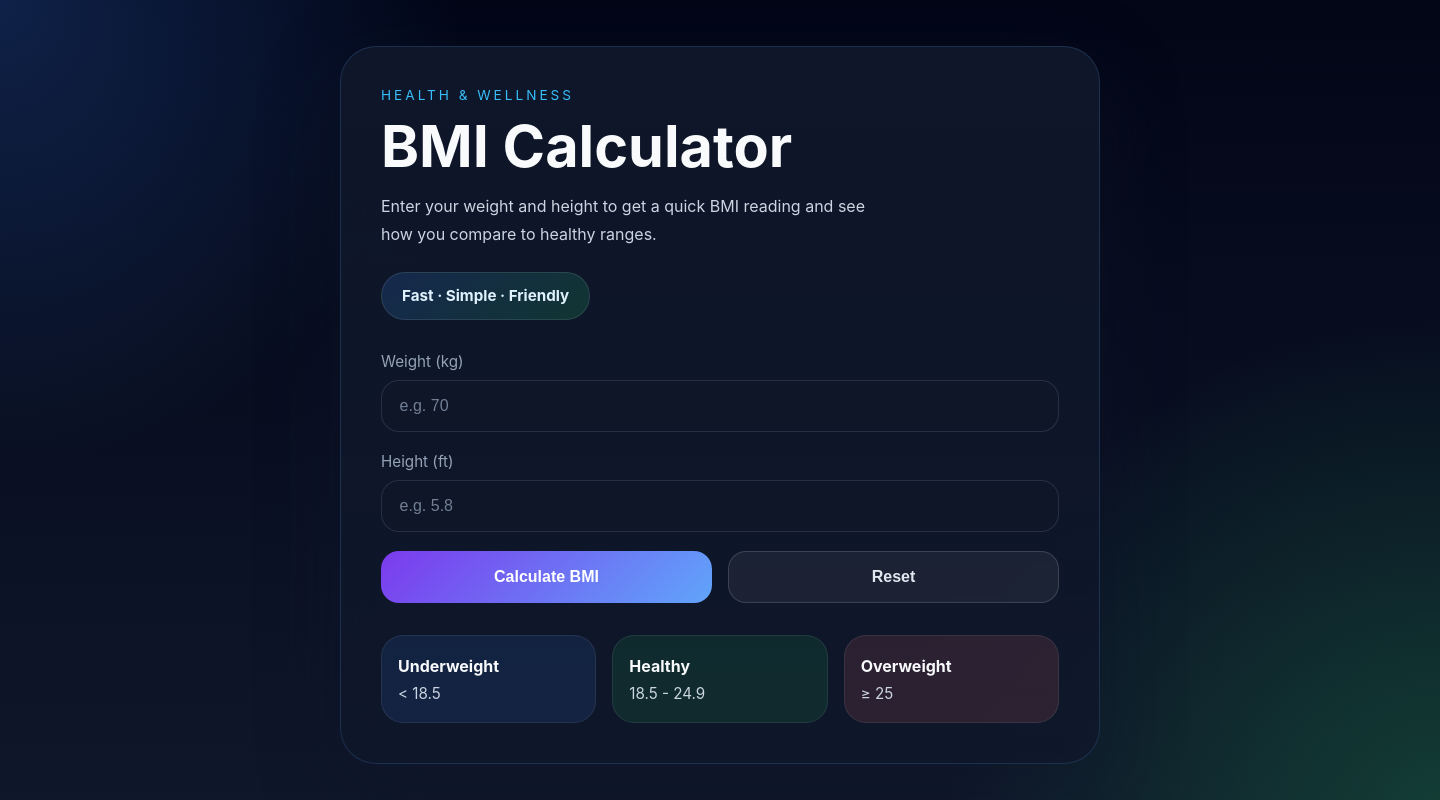
Test: shows a healthy result for a normal BMI
Step 1. Type "70" into the number field labelled "Weight (kg)" → {"x": 720, "y": 406}, box [381,380,1059,432]
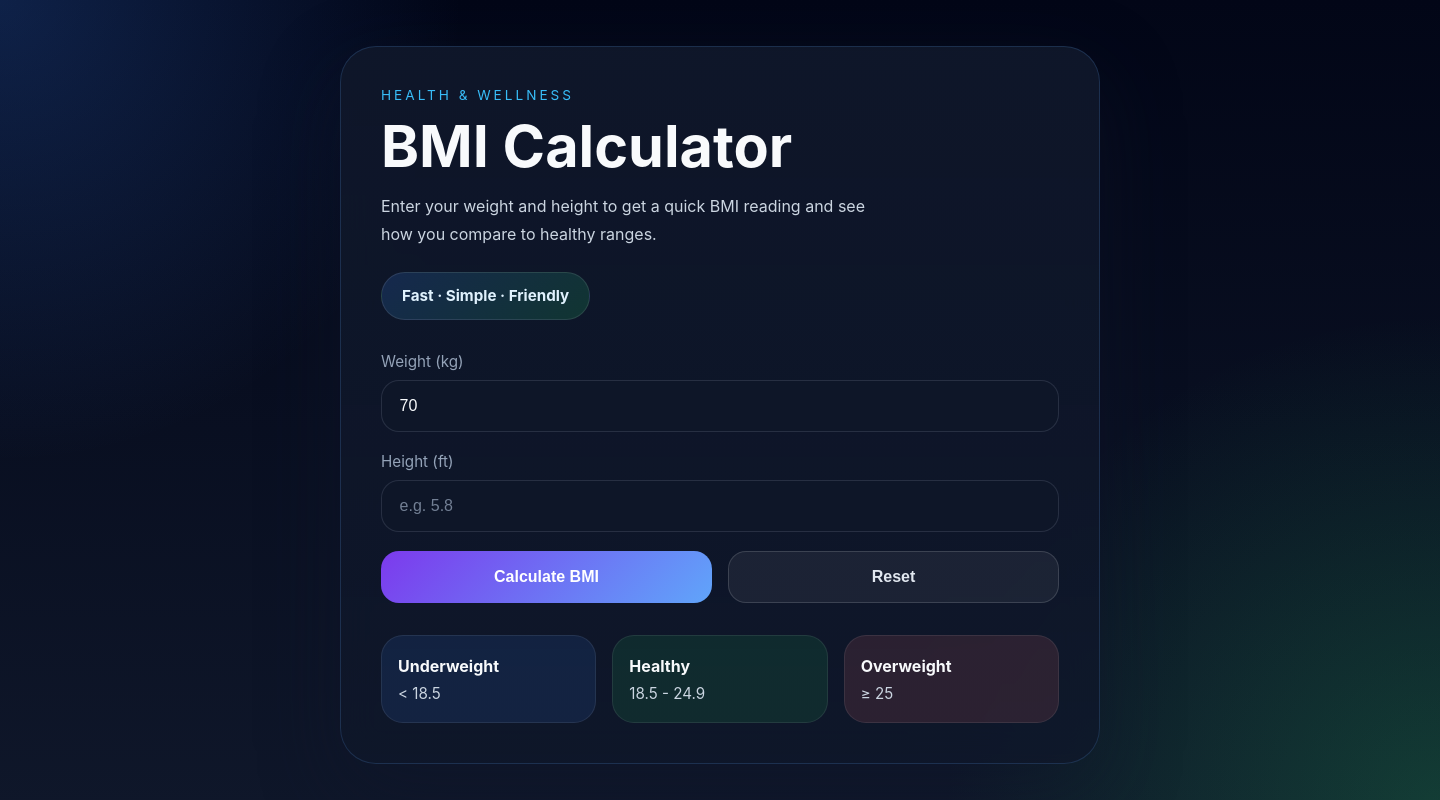
Step 2. Type "5.8" into the number field labelled "Height (ft)" → {"x": 720, "y": 506}, box [381,480,1059,532]
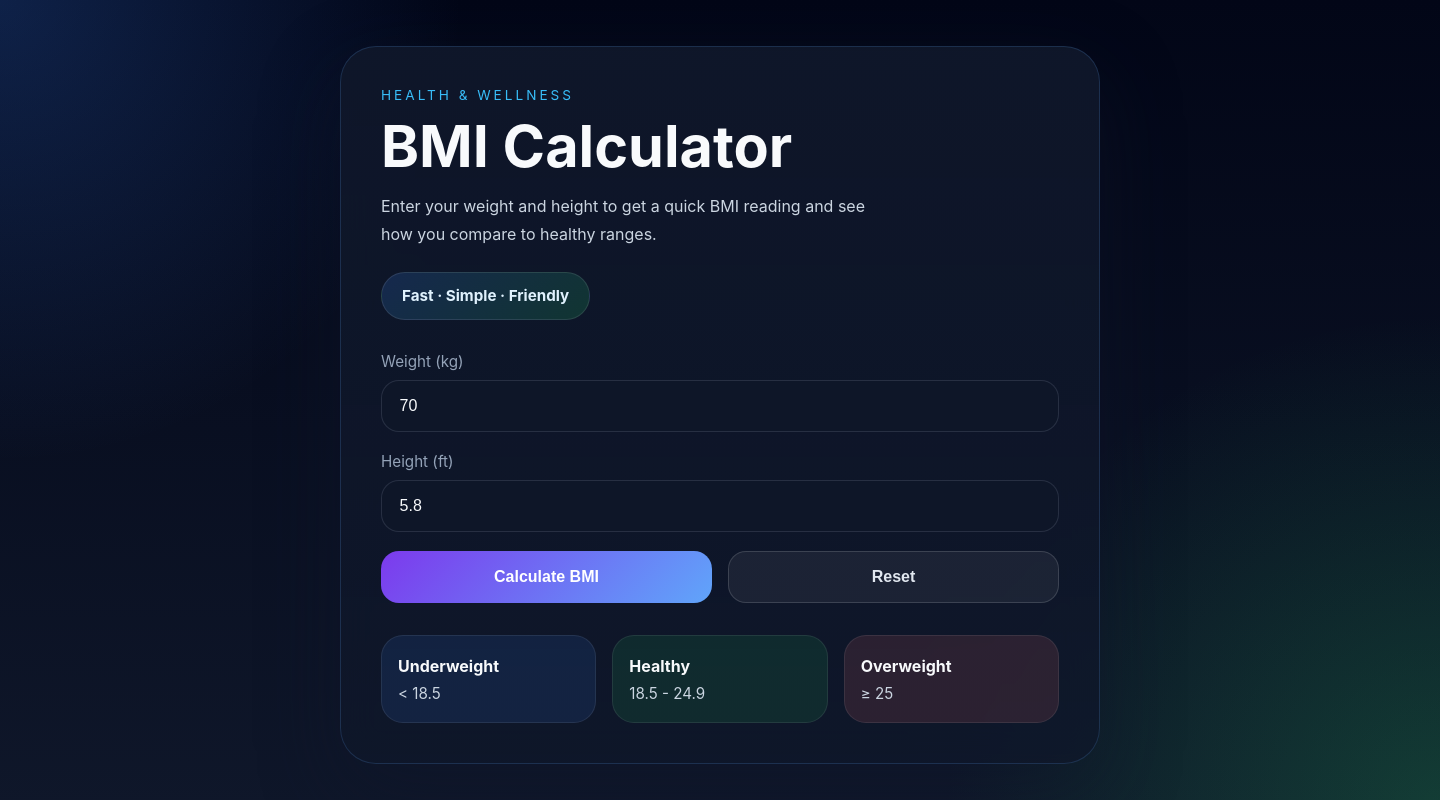
Step 3. Click the button "Calculate BMI" → {"x": 546, "y": 577}, box [381,551,712,603]
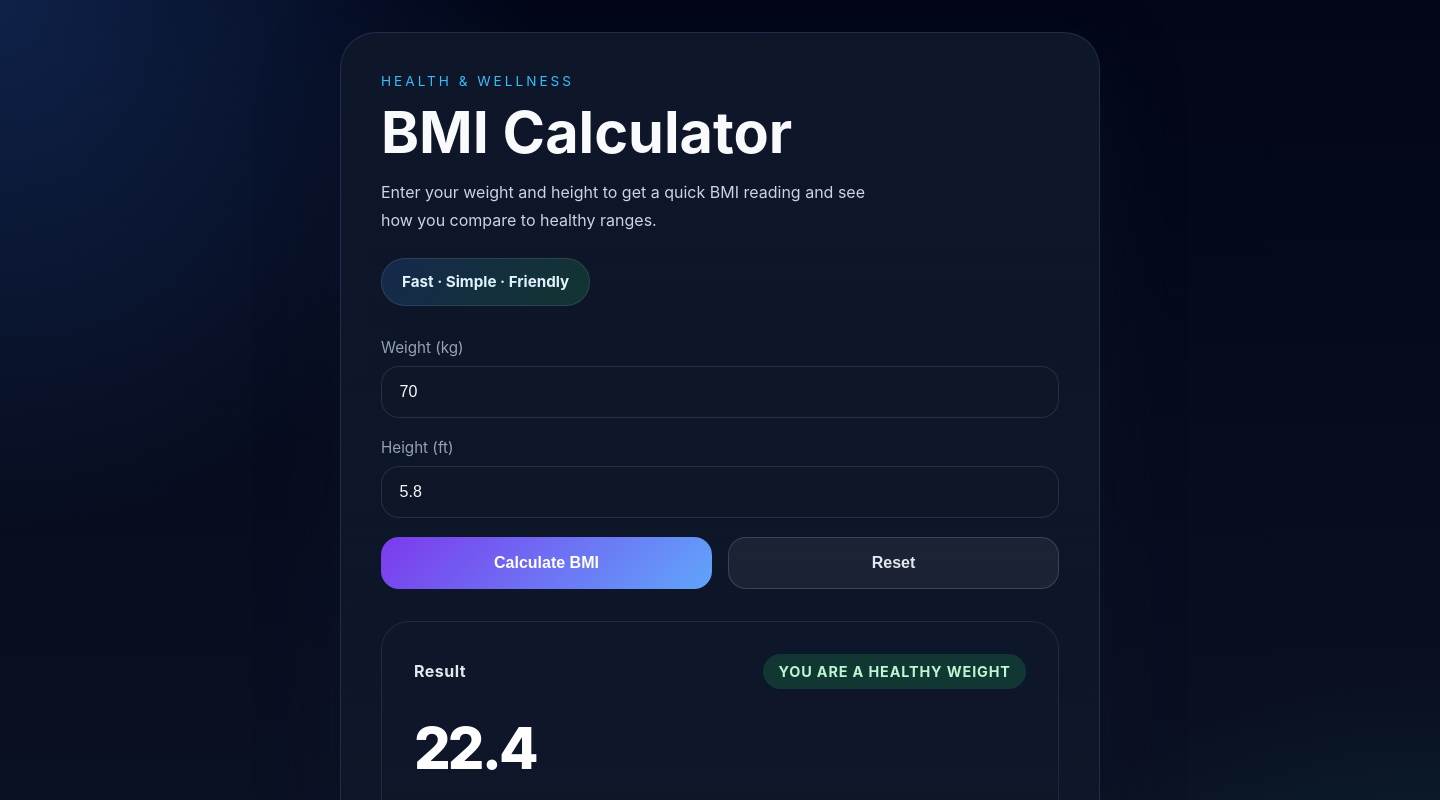
Result: the text "You are a healthy weight" is shown at [763,654,1026,689]
